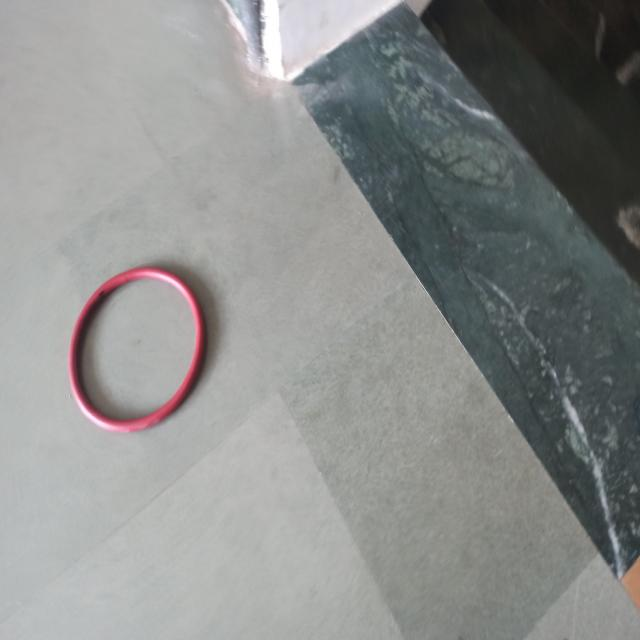daire: (71, 270, 205, 432)
